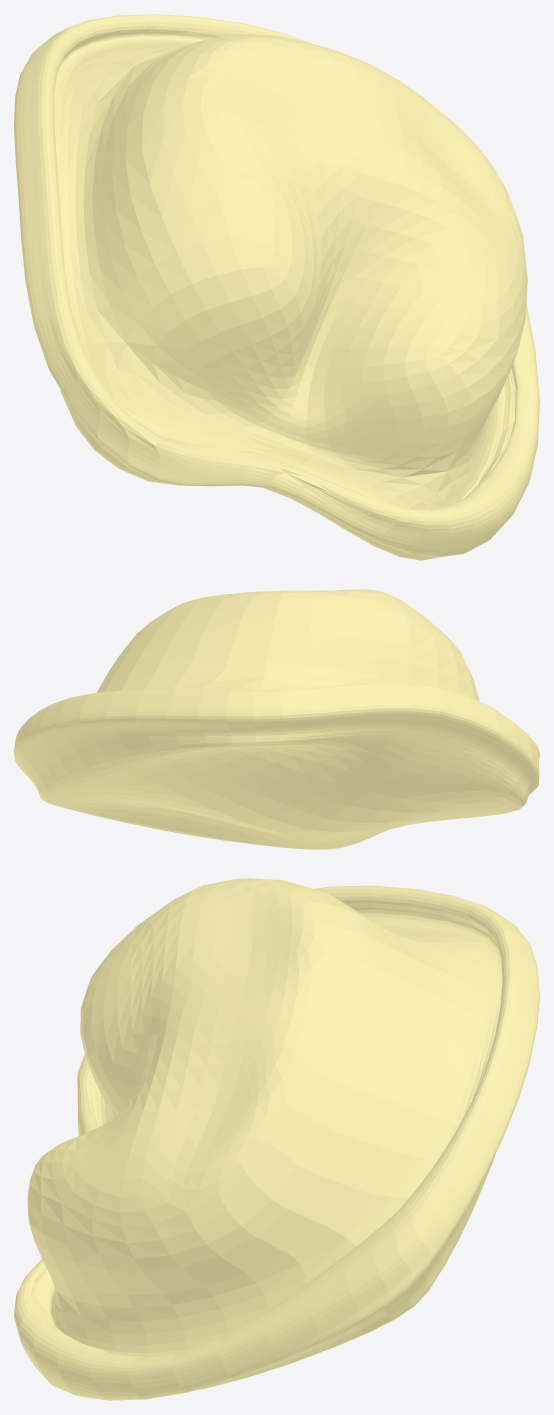
The model's file is pelmen.glb.
The picture shows the model from 3 angles, top to bottom: view 1: azimuth 30°, elevation 25°; view 2: azimuth 150°, elevation 25°; view 3: azimuth 270°, elevation 25°; orthographic projection. The views are drawn at different scales.
Visible parts, largest first — view 1: Material2; view 2: Material2; view 3: Material2.
Part boxes in pixels (box(x1,y1,x2,y2)): Material2: box(14, 14, 539, 560); Material2: box(14, 589, 539, 849); Material2: box(14, 878, 539, 1400).
Size of the model in its own units: 13.47 by 10.43 by 11.49.
